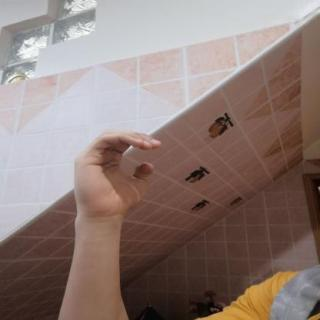JEEM: (61, 123, 173, 222)
